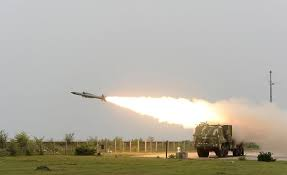ten_lua: (67, 88, 109, 105)
